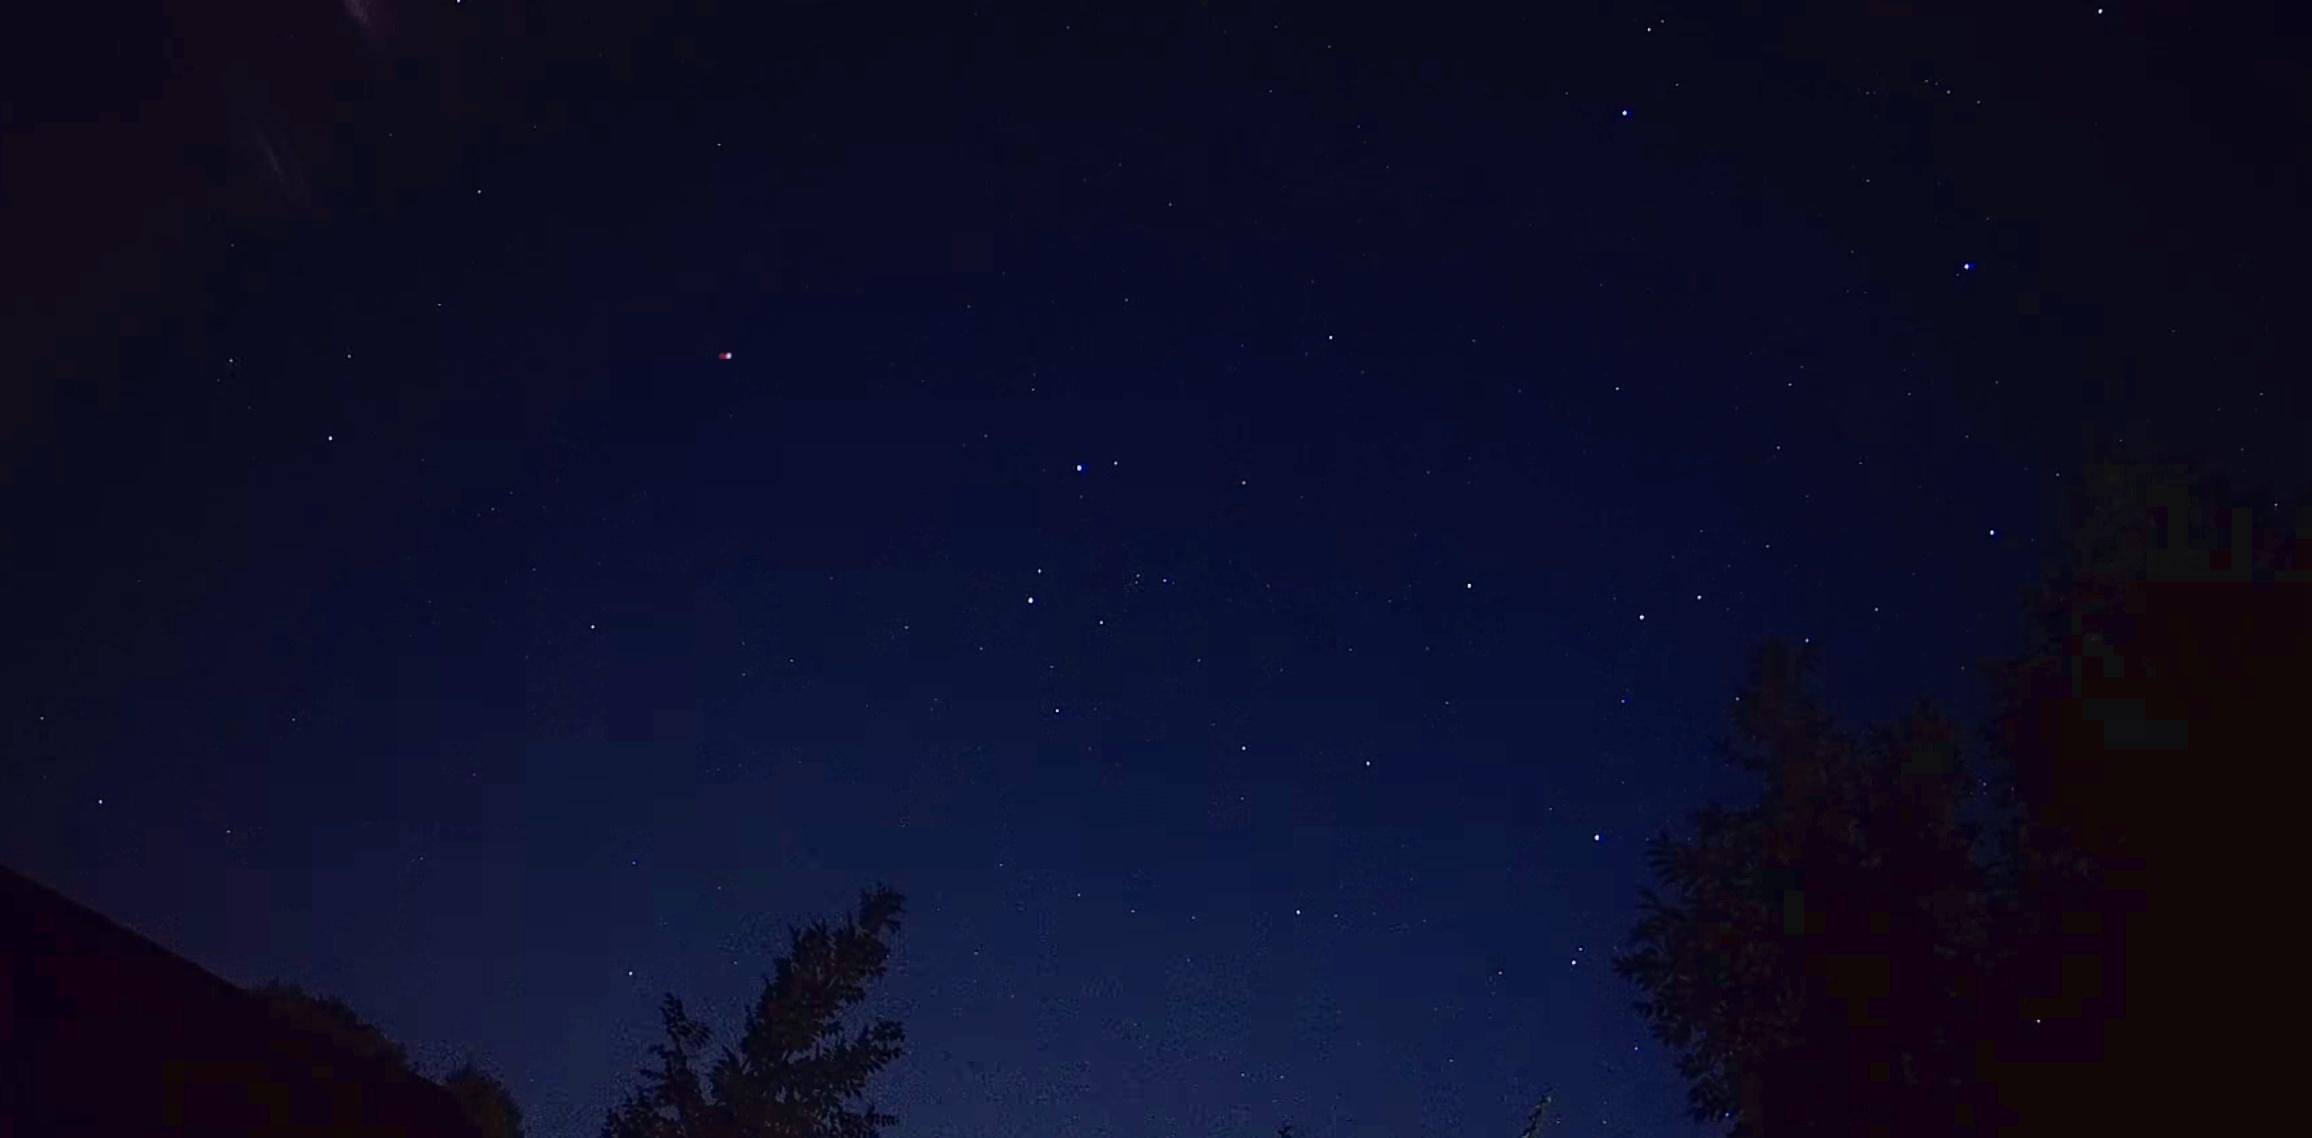Plane: (697, 338, 753, 371)
